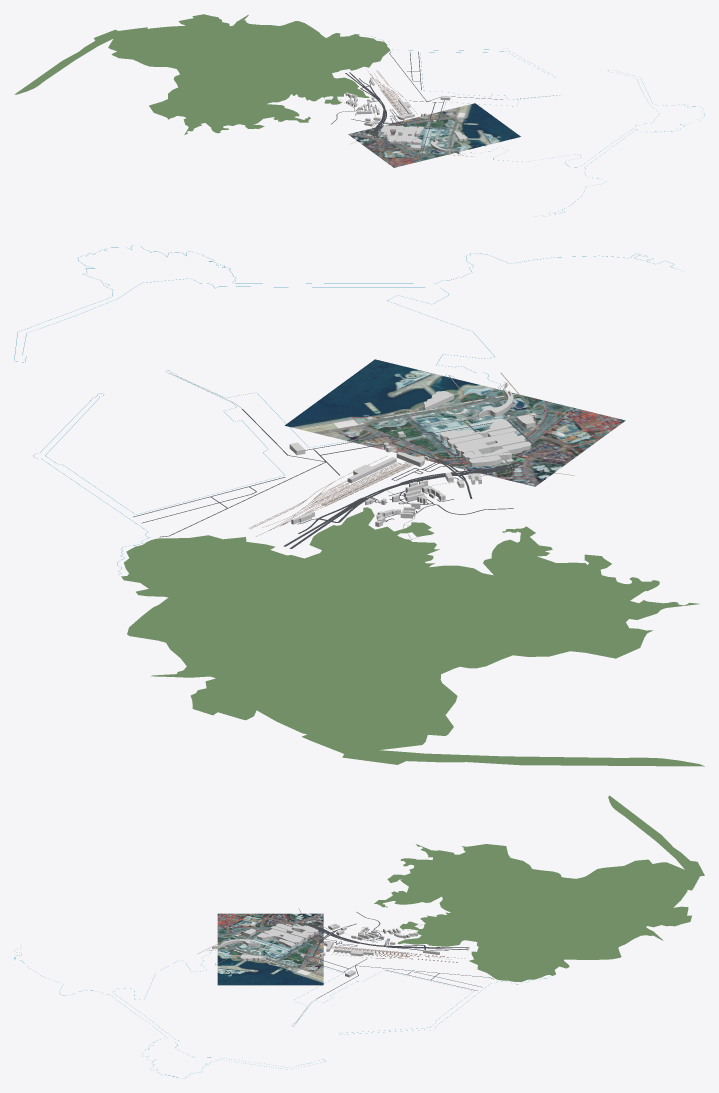
Rendered from convention-background.glb.
3 renders of one model, top to bottom at view 1: azimuth 30°, elevation 25°; view 2: azimuth 150°, elevation 25°; view 3: azimuth 270°, elevation 25°, orthographic. The views are drawn at different scales.
Parts seen in each view (by area): view 1: yeosu.osm_forest, Aerial_Context, yeosu.osm_buildings, roads_service, railways; view 2: yeosu.osm_forest, Aerial_Context, yeosu.osm_buildings, Mapped coastline, roads_service, railways, roads_primary; view 3: yeosu.osm_forest, Aerial_Context, yeosu.osm_buildings, roads_service.
Boxes of the visible parts, x1,y1,x2,y2 form: yeosu.osm_forest: [14, 14, 390, 134]; Aerial_Context: [348, 103, 520, 167]; yeosu.osm_buildings: [345, 77, 467, 153]; roads_service: [349, 51, 502, 155]; railways: [368, 70, 417, 114]; yeosu.osm_forest: [121, 507, 704, 766]; Aerial_Context: [285, 359, 625, 486]; yeosu.osm_buildings: [289, 382, 536, 526]; Mapped coastline: [14, 245, 674, 574]; roads_service: [133, 409, 544, 537]; railways: [248, 456, 410, 536]; roads_primary: [318, 460, 523, 522]; yeosu.osm_forest: [374, 795, 704, 981]; Aerial_Context: [217, 913, 323, 985]; yeosu.osm_buildings: [212, 923, 439, 977]; roads_service: [229, 925, 493, 999].
Bounding box in the file's own units: 4048 × 20.24 × 4174.
Materials: 12 (1 with a texture image).
